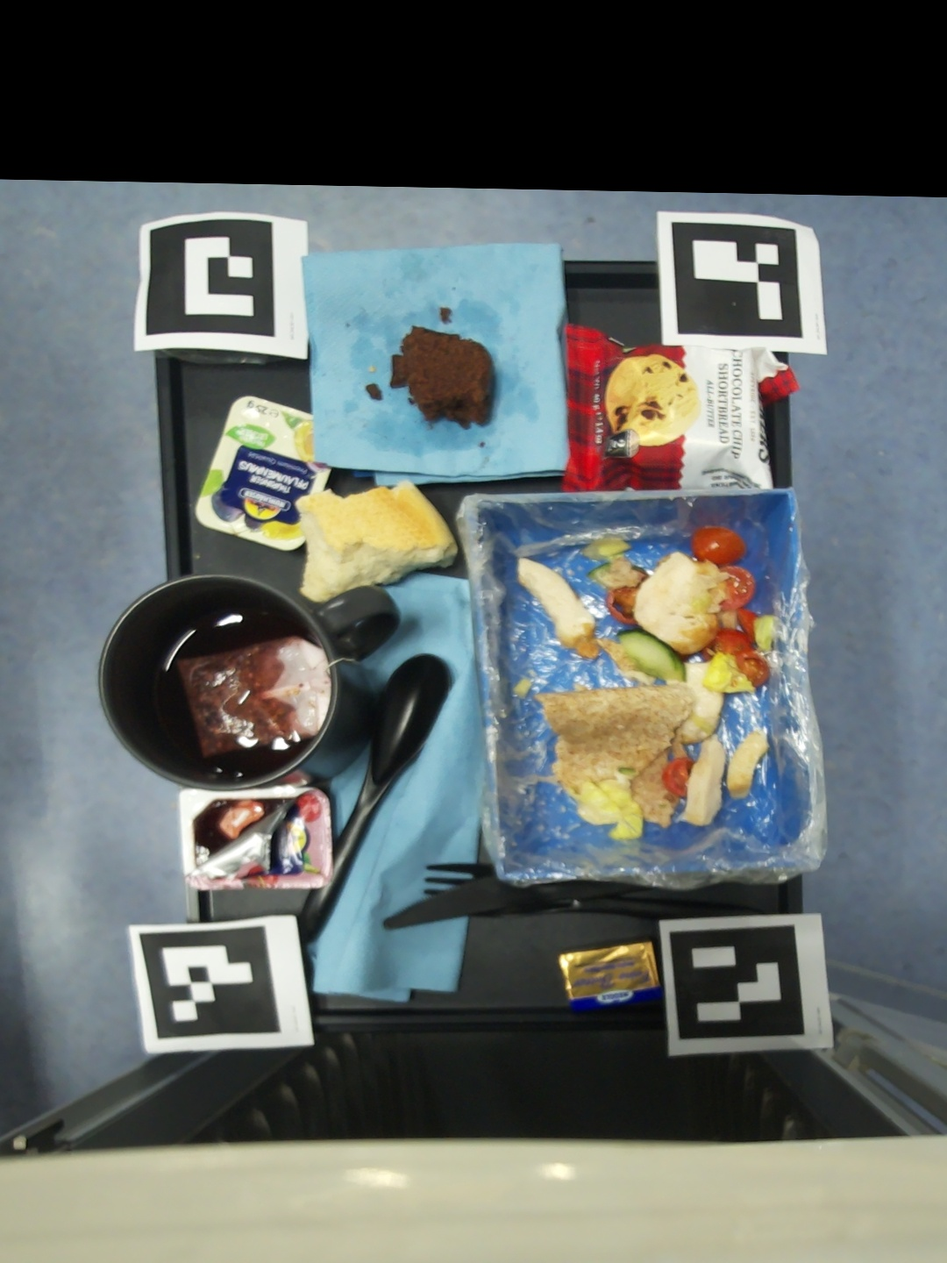bread_roll: (294, 480, 458, 603)
brownie: (391, 325, 496, 430), (367, 383, 385, 399), (441, 307, 452, 324)
butter: (559, 940, 661, 1012)
cherry_jam: (179, 786, 335, 890)
cookie: (563, 326, 800, 489)
plum_jam: (195, 395, 332, 551)
tea_cup: (99, 574, 400, 790)
wrap_half_1: (517, 527, 775, 839), (726, 730, 769, 799), (512, 679, 531, 698)
